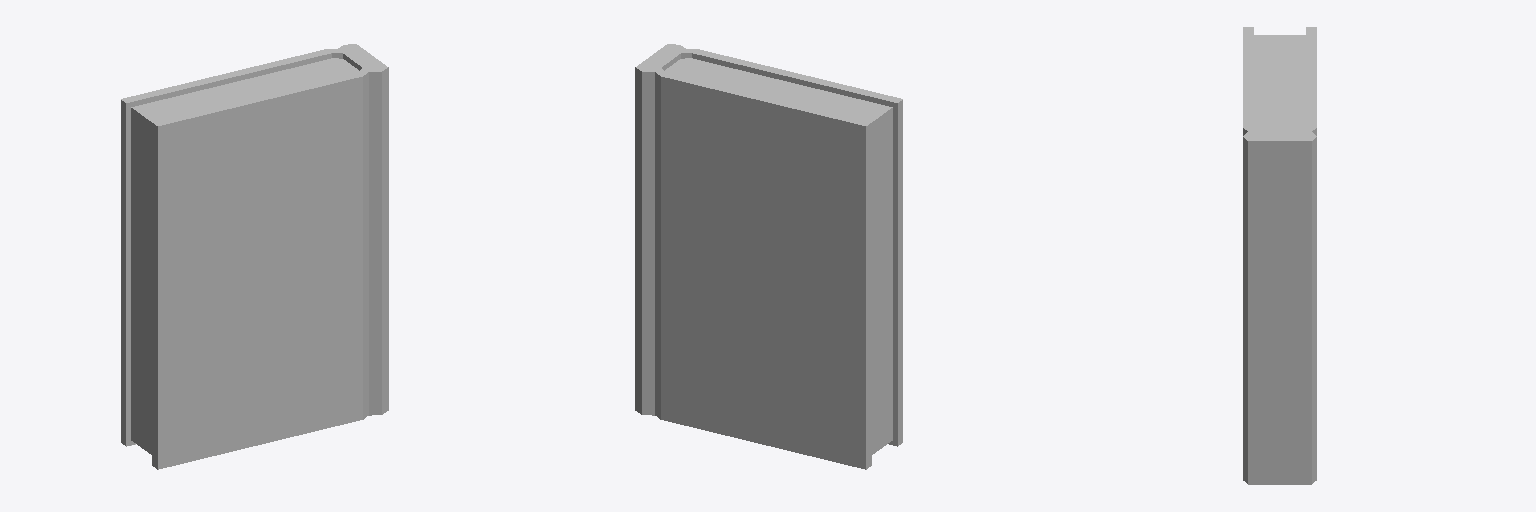
The model's file is book.obj.
The picture shows the model from 3 angles: view 1: azimuth 30°, elevation 25°; view 2: azimuth 150°, elevation 25°; view 3: azimuth 270°, elevation 25°; orthographic projection.
Bounding box in the file's own units: 0.47 × 0.66 × 0.13.